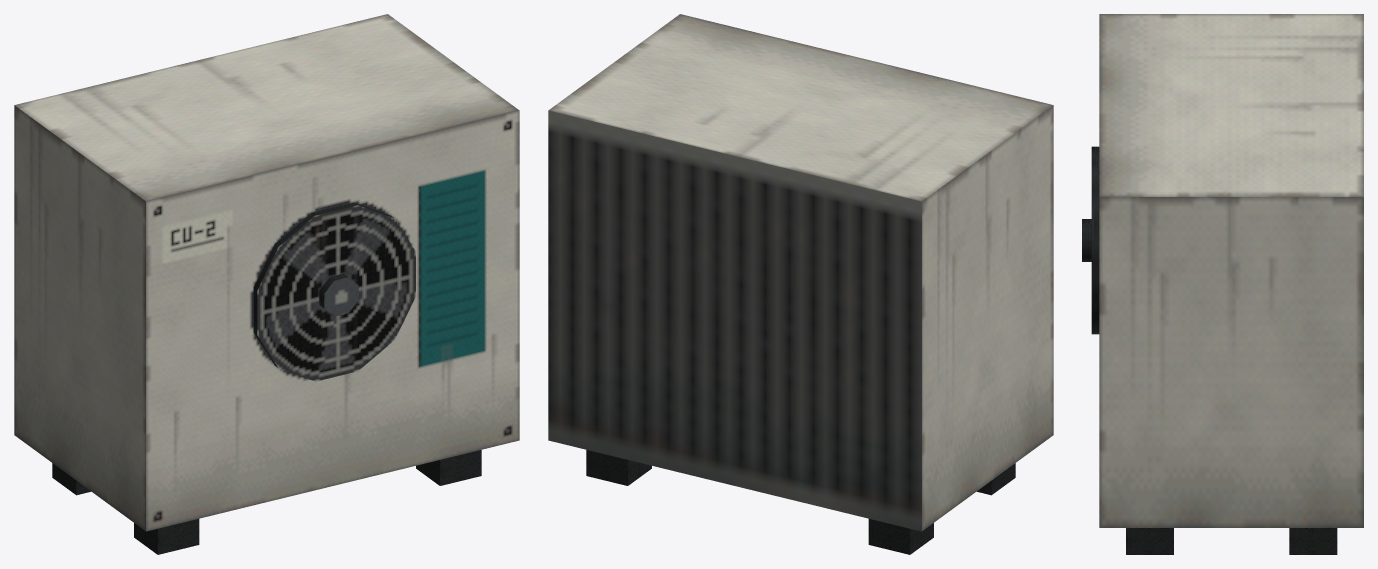
Rendered from SKC-PSX_09_CompactCondenser.fbx.
The picture shows the model from 3 angles, left to right: view 1: azimuth 30°, elevation 25°; view 2: azimuth 150°, elevation 25°; view 3: azimuth 270°, elevation 25°; orthographic projection.
Parts seen in each view (by area): view 1: SKC-PSX_09_CompactCondenser; view 2: SKC-PSX_09_CompactCondenser; view 3: SKC-PSX_09_CompactCondenser.
Boxes of the visible parts, x1,y1,x2,y2 form: SKC-PSX_09_CompactCondenser: (14, 14, 519, 554); SKC-PSX_09_CompactCondenser: (548, 14, 1053, 554); SKC-PSX_09_CompactCondenser: (1082, 14, 1363, 554).
Size of the model in its own units: 90 by 85 by 58.6.
Materials: 1 (1 with a texture image).
